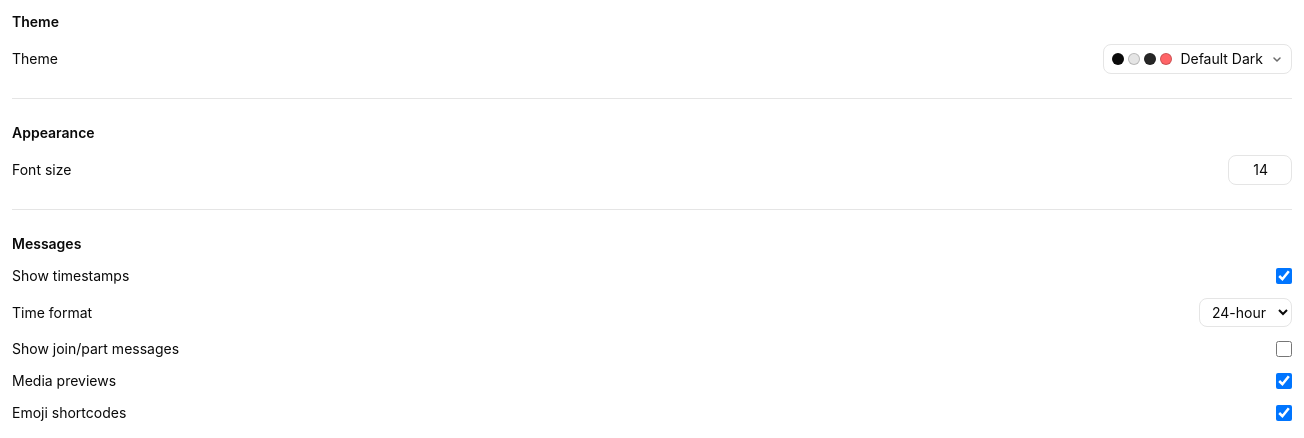
Test case: ThemePicker › opens dropdown with all themes on click
This screenshot has width=1304, height=438.
Step 1. Click the button with test id "theme-select" → click(1198, 59), box [1103, 44, 1292, 74]
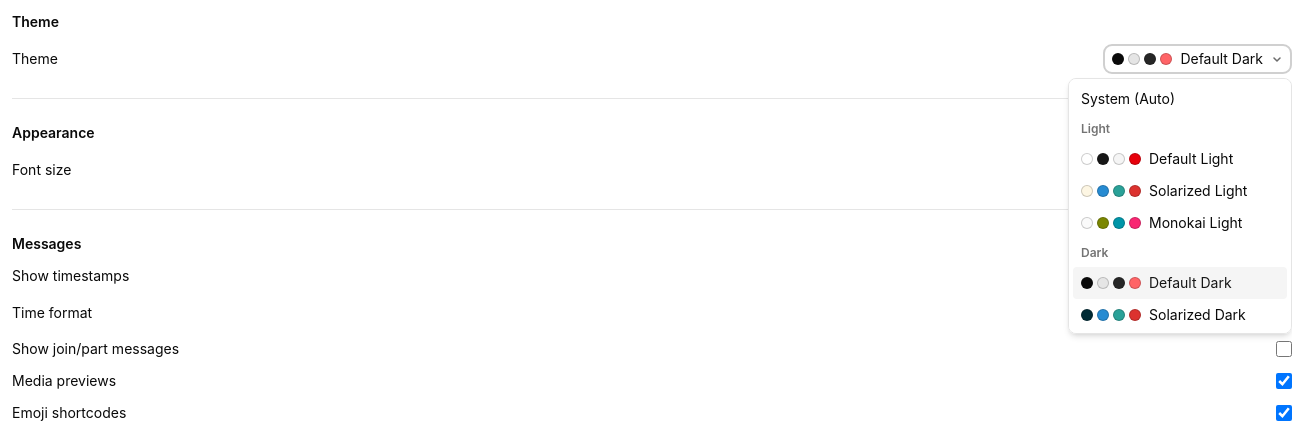
Check: the element with test id "theme-dropdown" is shown, box [1068, 78, 1292, 334]
Check: the button "System (Auto)" is shown, box [1073, 83, 1287, 115]
Check: the text "Light" is shown, box [1081, 121, 1110, 136]
